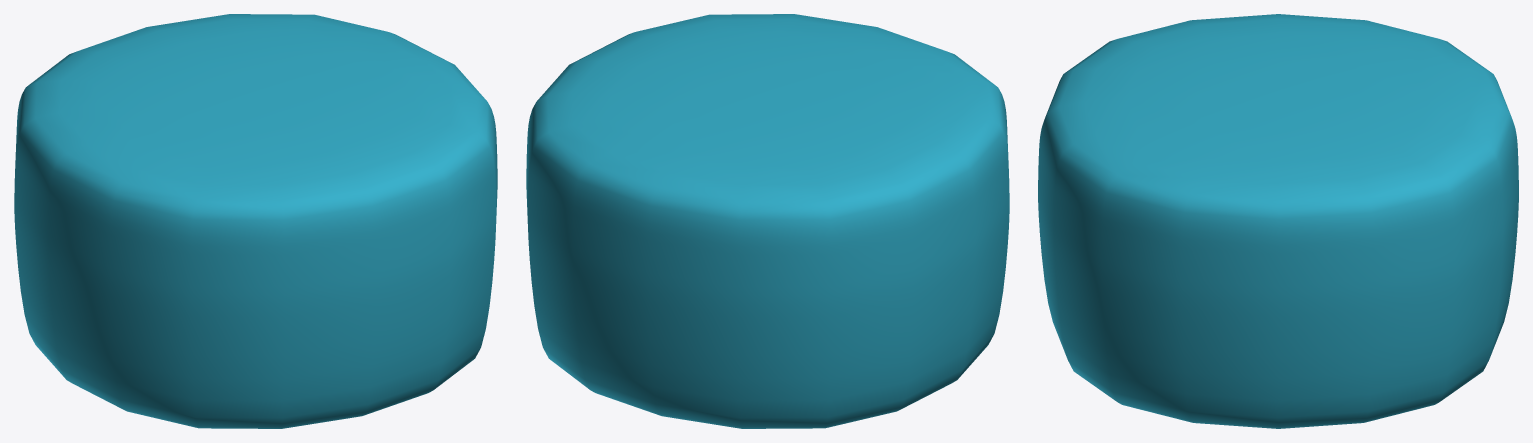
3 renders of one model, left to right at view 1: azimuth 30°, elevation 25°; view 2: azimuth 150°, elevation 25°; view 3: azimuth 270°, elevation 25°, orthographic.
Visible parts, largest first — view 1: Deckel2; view 2: Deckel2; view 3: Deckel2.
Boxes of the visible parts, x1,y1,x2,y2 form: Deckel2: (14, 14, 497, 428); Deckel2: (526, 14, 1009, 428); Deckel2: (1038, 14, 1518, 428).
Size of the model in its own units: 6.44 by 4.48 by 6.44.
